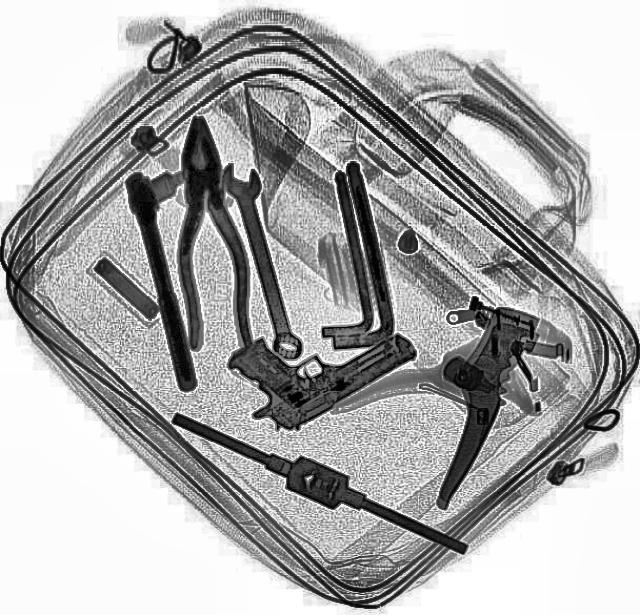Gun: (210, 274, 422, 444)
Pliers: (164, 113, 256, 353)
Wrench: (213, 158, 309, 364)
